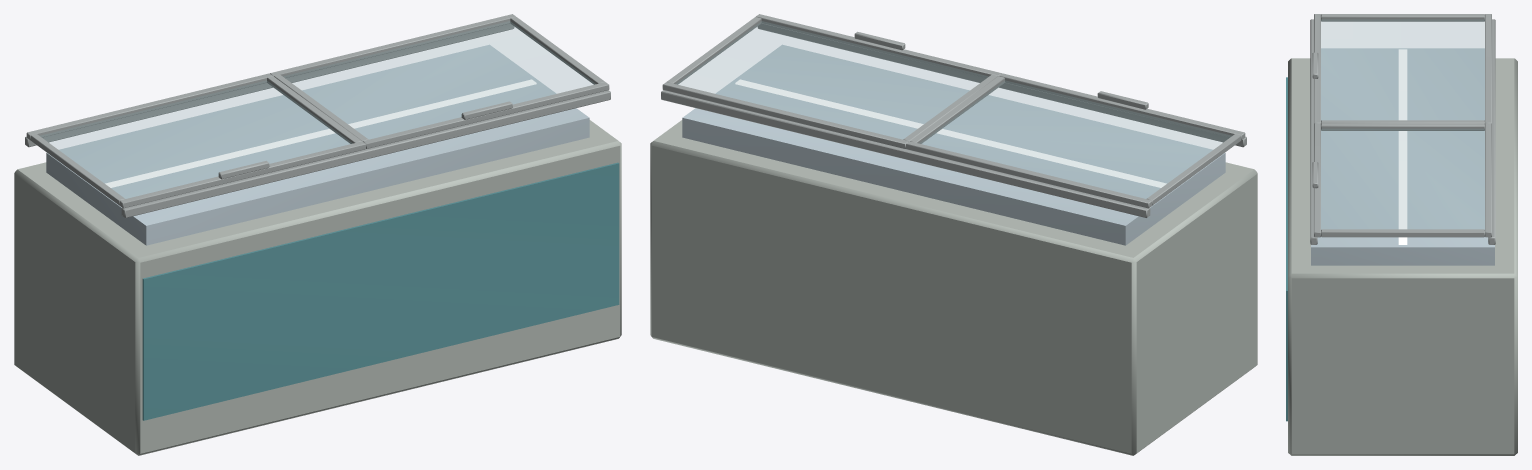
Rendered from mkt-freezer-chest.glb.
3 renders of one model, left to right at view 1: azimuth 30°, elevation 25°; view 2: azimuth 150°, elevation 25°; view 3: azimuth 270°, elevation 25°, orthographic. The views are drawn at different scales.
Parts seen in each view (by area): view 1: body__enamel, inner__paint, lid-a__glass, lid-b__glass, rails__chrome, lid-a-frame__chrome, lid-b-frame__chrome, light__led; view 2: body__enamel, inner__paint, lid-a__glass, lid-b__glass, rails__chrome, lid-a-frame__chrome, lid-b-frame__chrome, light__led; view 3: body__enamel, inner__paint, lid-a__glass, lid-b__glass, lid-b-frame__chrome, lid-a-frame__chrome, rails__chrome, light__led.
Part boxes in pixels (<box>): body__enamel: <box>14,120,621,455</box>; inner__paint: <box>46,44,589,245</box>; lid-a__glass: <box>40,80,351,198</box>; lid-b__glass: <box>283,21,594,138</box>; rails__chrome: <box>25,23,610,217</box>; lid-a-frame__chrome: <box>26,73,365,208</box>; lid-b-frame__chrome: <box>270,14,609,148</box>; light__led: <box>105,79,536,187</box>; body__enamel: <box>650,120,1257,455</box>; inner__paint: <box>682,44,1225,245</box>; lid-a__glass: <box>920,80,1231,198</box>; lid-b__glass: <box>677,21,988,138</box>; rails__chrome: <box>661,23,1246,217</box>; lid-a-frame__chrome: <box>906,73,1245,208</box>; lid-b-frame__chrome: <box>662,14,1001,148</box>; light__led: <box>735,79,1166,187</box>; body__enamel: <box>1286,58,1517,455</box>; inner__paint: <box>1311,48,1494,265</box>; lid-a__glass: <box>1321,19,1484,119</box>; lid-b__glass: <box>1321,129,1484,229</box>; lid-b-frame__chrome: <box>1312,123,1491,237</box>; lid-a-frame__chrome: <box>1312,14,1491,123</box>; rails__chrome: <box>1310,19,1495,244</box>; light__led: <box>1398,49,1407,244</box>.
Bounding box in the file's own units: 1.8 × 0.885 × 0.807.
